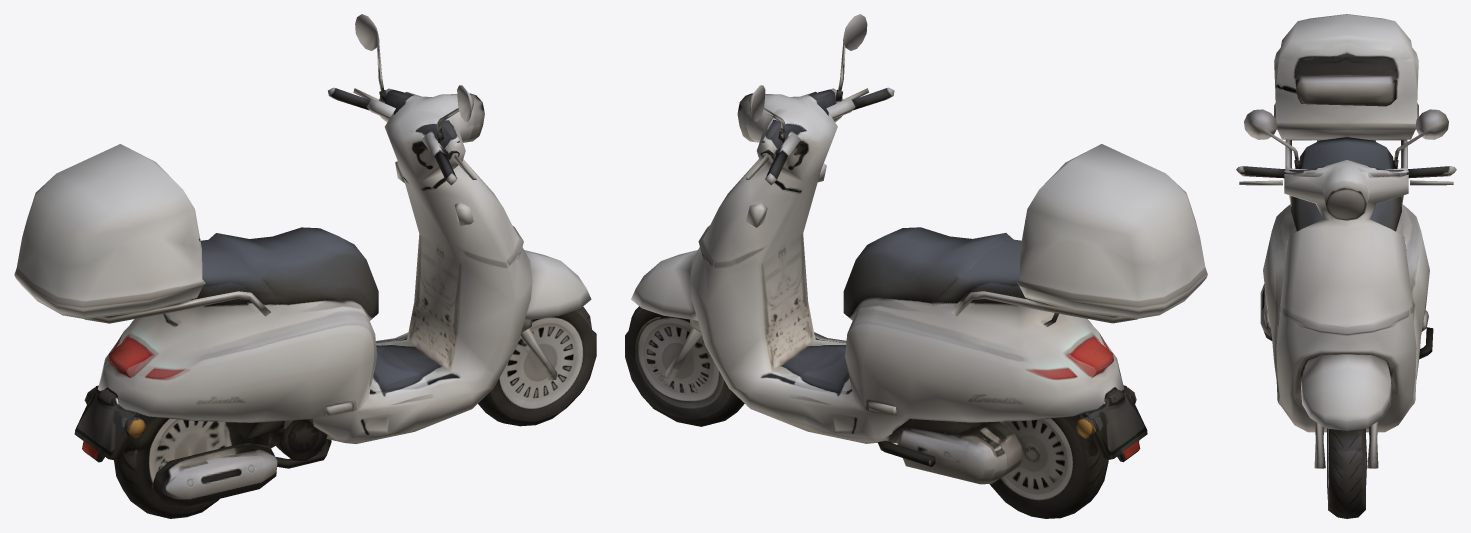
Rendered from motuo.fbx.
3 renders of one model, left to right at view 1: azimuth 30°, elevation 25°; view 2: azimuth 150°, elevation 25°; view 3: azimuth 270°, elevation 25°, orthographic. The views are drawn at different scales.
Visible parts, largest first — view 1: meshes[0]; view 2: meshes[0]; view 3: meshes[0].
Part boxes in pixels (bbox=[...]): meshes[0]: bbox=[14, 14, 596, 518]; meshes[0]: bbox=[625, 14, 1207, 518]; meshes[0]: bbox=[1236, 14, 1456, 518].
Size of the model in its own units: 0.998 by 0.6934 by 0.3848.
Materials: 1 (1 with a texture image).
